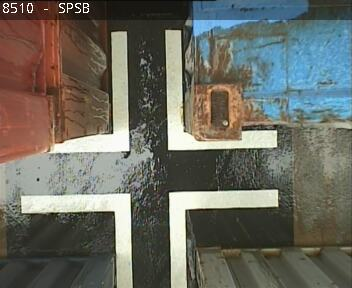groundmarker_1: (51, 30, 278, 154), (20, 187, 279, 288)
